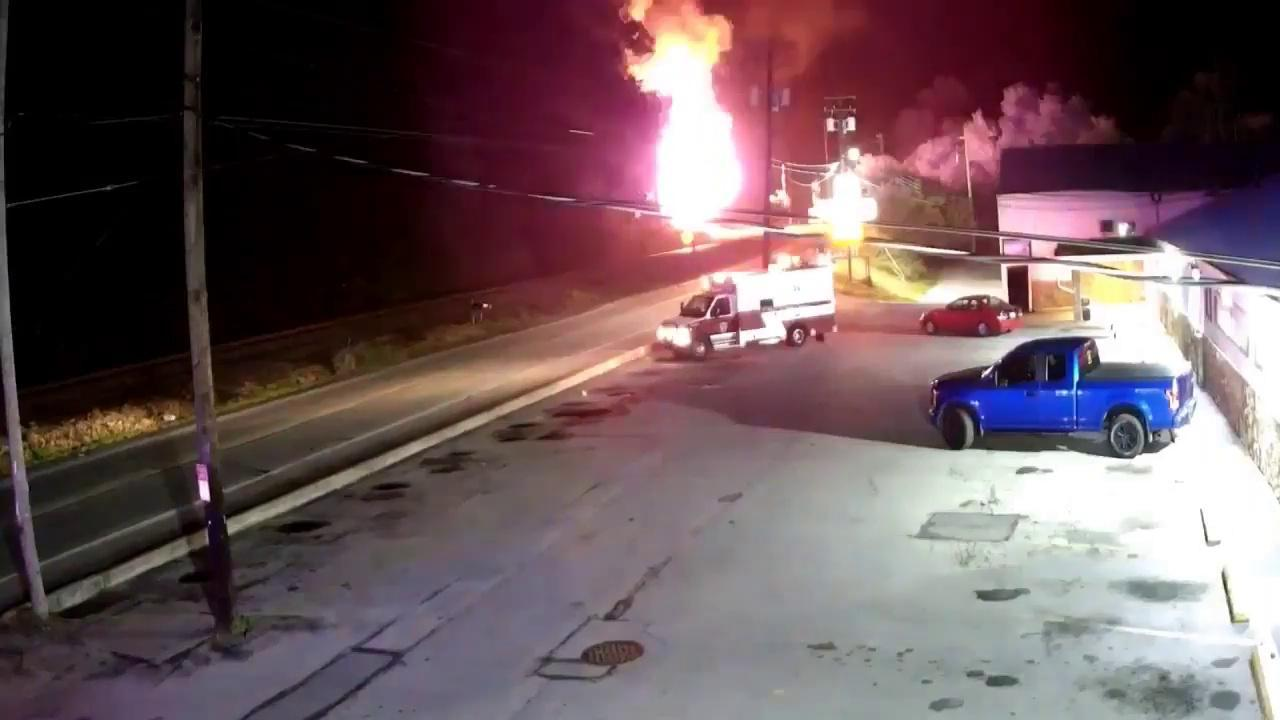Fire: (620, 6, 761, 218)
